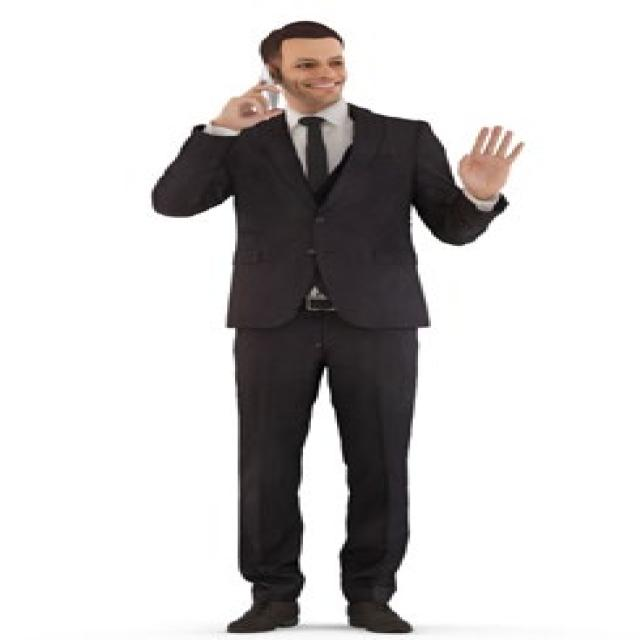standing: (145, 20, 528, 635)
